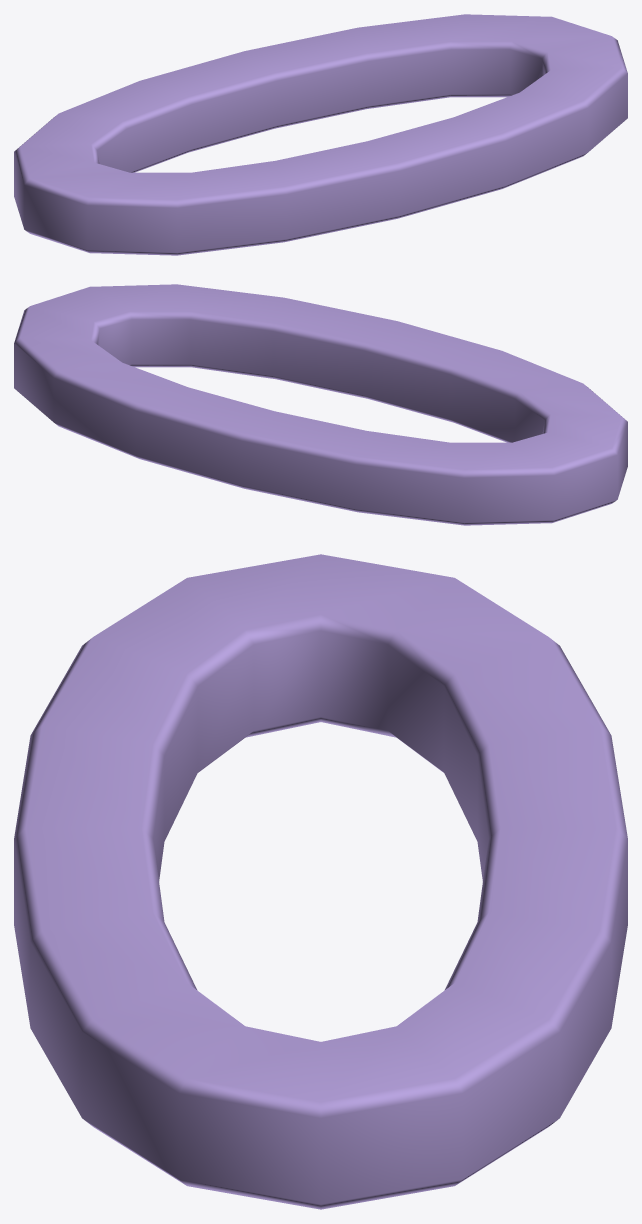
The model's file is Squid_3_Ring_4.fbx.
3 renders of one model, top to bottom at view 1: azimuth 30°, elevation 25°; view 2: azimuth 150°, elevation 25°; view 3: azimuth 270°, elevation 25°, orthographic. The views are drawn at different scales.
Visible parts, largest first — view 1: Squid_3_Ring_4; view 2: Squid_3_Ring_4; view 3: Squid_3_Ring_4.
Boxes of the visible parts, bbox=[...] form: Squid_3_Ring_4: bbox=[14, 14, 627, 255]; Squid_3_Ring_4: bbox=[14, 284, 627, 525]; Squid_3_Ring_4: bbox=[14, 554, 627, 1209].
Bounding box in the file's own units: 11.51 × 1.03 × 5.35.
